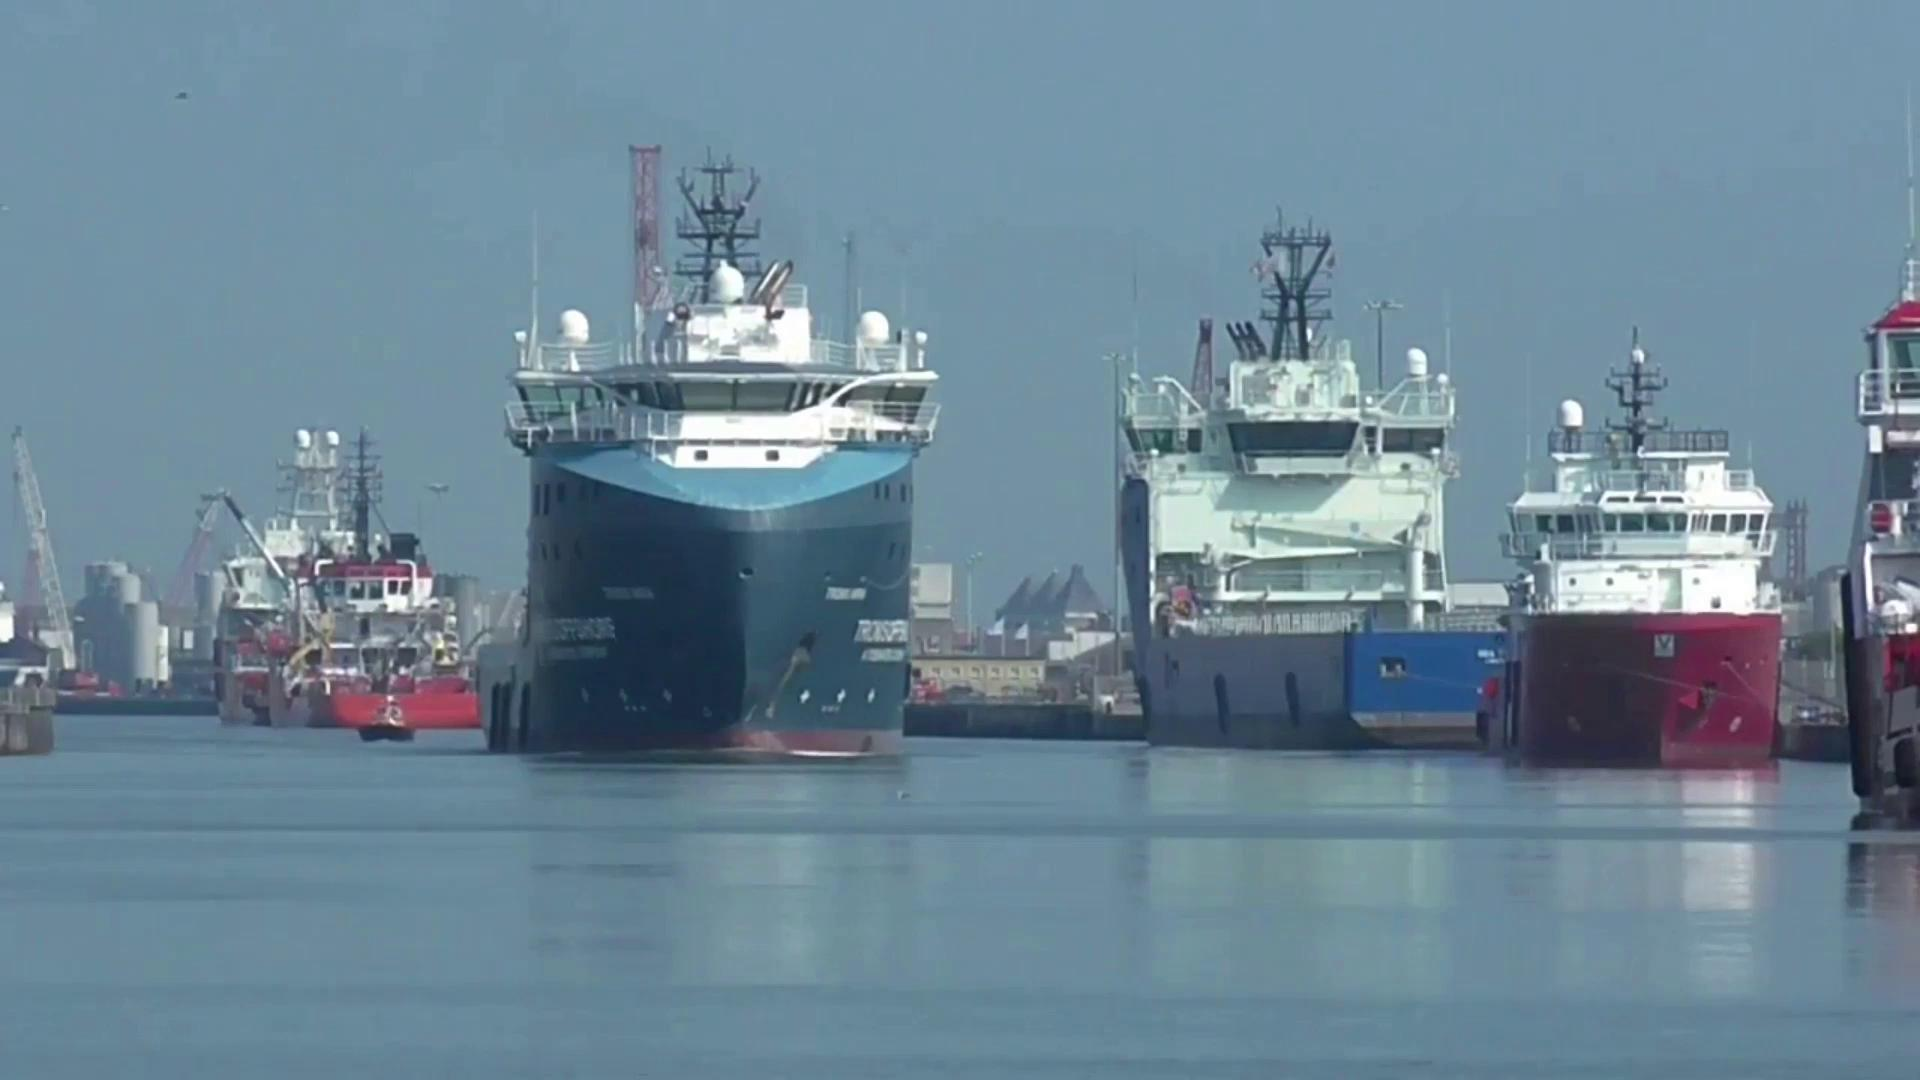OCR: (531, 600, 615, 666)
